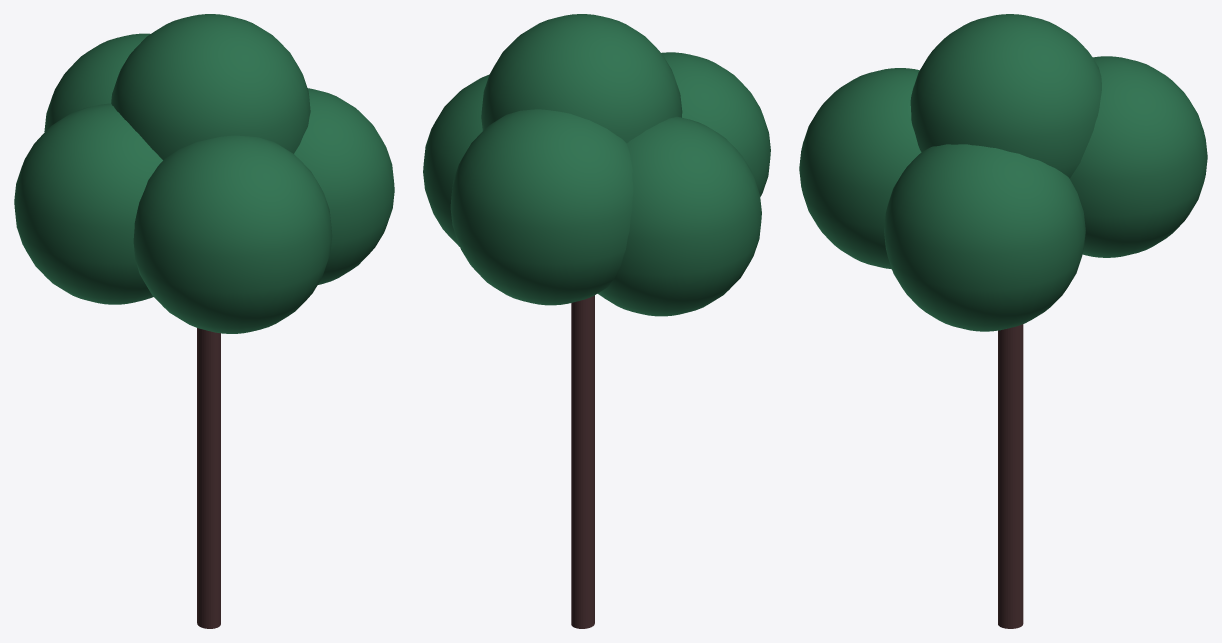
File: Tree.fbx
The picture shows the model from 3 angles, left to right: view 1: azimuth 30°, elevation 25°; view 2: azimuth 150°, elevation 25°; view 3: azimuth 270°, elevation 25°; orthographic projection.
Visible parts, largest first — view 1: Cylinder; view 2: Cylinder; view 3: Cylinder.
Part boxes in pixels (bbox=[...]): Cylinder: bbox=[14, 14, 394, 628]; Cylinder: bbox=[423, 14, 770, 628]; Cylinder: bbox=[799, 14, 1207, 628].
Size of the model in its own units: 246 by 423 by 260.
